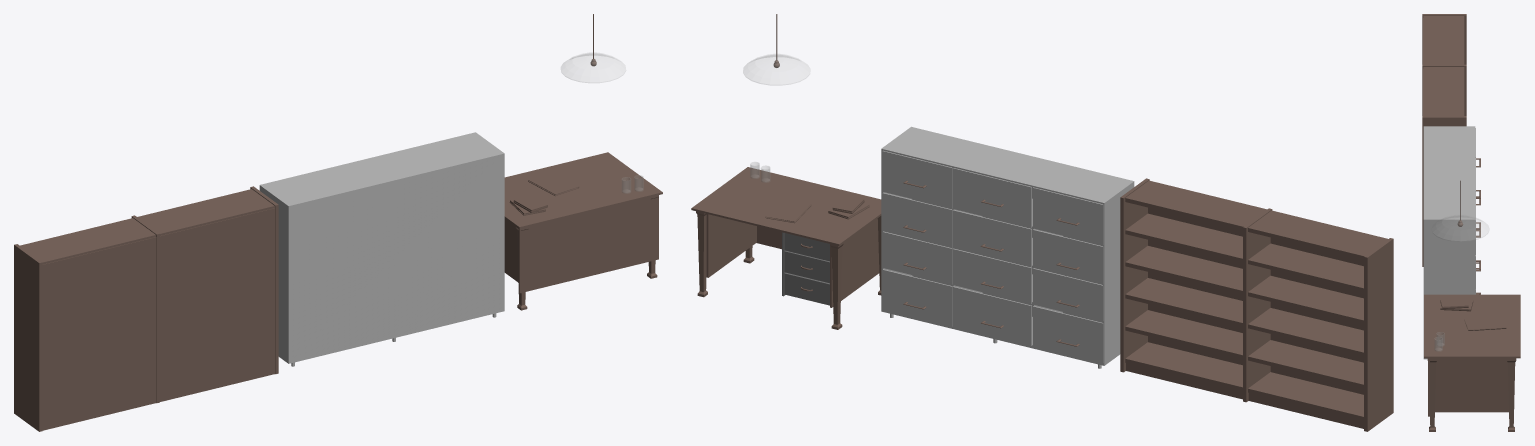
File: Low_Poly_Office.glb
The picture shows the model from 3 angles, left to right: view 1: azimuth 30°, elevation 25°; view 2: azimuth 150°, elevation 25°; view 3: azimuth 270°, elevation 25°; orthographic projection. The views are drawn at different scales.
Visible parts, largest first — view 1: bookcase_bookcase1_0, archivio_corpo_drawer1_0, lato3_desk_sides_0, piano_desk_plane_0, pCylinder26_lamp_glass_0, lato1_desk_sides_0, libro2_desk_book_1_0; view 2: bookcase_bookcase1_0, archivio_corpo_drawer1_0, piano_desk_plane_0, lato1_desk_sides_0, lato_desk_sides_0, pCylinder26_lamp_glass_0, cassetti3_desk_drawers_0, cassetti2_desk_drawers_0, cassetti1_desk_drawers_0, zampe1_desk_legs_0, zampe2_desk_legs_0, libro2_desk_book_1_0 (+1 smaller); view 3: archivio_corpo_drawer1_0, piano_desk_plane_0, bookcase_bookcase1_0, lato_desk_sides_0, pCylinder26_lamp_glass_0, libro2_desk_book_1_0, zampe2_desk_legs_0, zampe3_desk_legs_0, libro_desk_book_2_0, archivio_maniglie_drawer_handles_0, libro1_desk_book_2_0, portapenne_desk_glasses_0 (+1 smaller).
Boxes of the visible parts, <box> form: bookcase_bookcase1_0: <box>14,186,278,431</box>; archivio_corpo_drawer1_0: <box>259,132,504,366</box>; lato3_desk_sides_0: <box>518,195,658,293</box>; piano_desk_plane_0: <box>504,152,662,228</box>; pCylinder26_lamp_glass_0: <box>561,52,625,82</box>; lato1_desk_sides_0: <box>504,218,518,282</box>; libro2_desk_book_1_0: <box>528,172,579,195</box>; bookcase_bookcase1_0: <box>1120,178,1393,431</box>; archivio_corpo_drawer1_0: <box>881,126,1134,368</box>; piano_desk_plane_0: <box>691,167,881,245</box>; lato1_desk_sides_0: <box>830,218,879,307</box>; lato_desk_sides_0: <box>706,214,756,277</box>; pCylinder26_lamp_glass_0: <box>743,54,810,85</box>; cassetti3_desk_drawers_0: <box>784,272,829,305</box>; cassetti2_desk_drawers_0: <box>784,250,829,283</box>; cassetti1_desk_drawers_0: <box>784,233,829,261</box>; zampe1_desk_legs_0: <box>830,243,843,329</box>; zampe2_desk_legs_0: <box>696,211,707,297</box>; libro2_desk_book_1_0: <box>765,199,811,223</box>; archivio_corpo_drawer1_0: <box>1423,126,1475,359</box>; piano_desk_plane_0: <box>1424,294,1520,358</box>; bookcase_bookcase1_0: <box>1422,14,1466,266</box>; lato_desk_sides_0: <box>1435,358,1508,412</box>; pCylinder26_lamp_glass_0: <box>1431,215,1489,241</box>; libro2_desk_book_1_0: <box>1464,316,1506,330</box>; zampe2_desk_legs_0: <box>1507,358,1516,431</box>; zampe3_desk_legs_0: <box>1427,358,1436,431</box>; libro_desk_book_2_0: <box>1440,298,1468,308</box>; archivio_maniglie_drawer_handles_0: <box>1476,158,1480,294</box>; libro1_desk_book_2_0: <box>1440,300,1473,311</box>; portapenne_desk_glasses_0: <box>1434,337,1442,351</box>.
Size of the model in its own units: 62.97 by 25.21 by 9.71.
